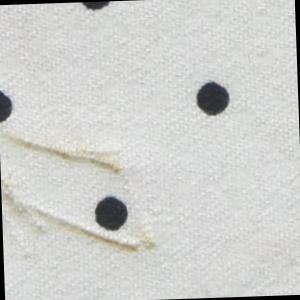Oil Stain: (3, 177, 162, 263), (1, 126, 132, 187)
